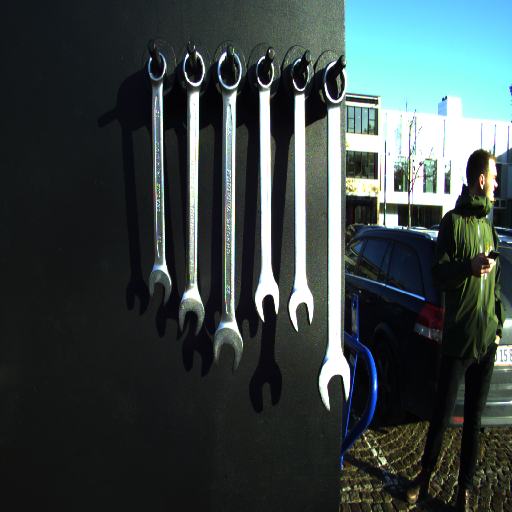bottom: (316, 355, 351, 413), (211, 323, 245, 372), (285, 291, 316, 333), (177, 296, 206, 337), (252, 282, 281, 323), (147, 267, 174, 305)
top: (321, 59, 347, 105), (217, 50, 243, 92), (180, 50, 208, 88), (254, 54, 276, 92), (289, 56, 311, 94), (145, 52, 169, 83)
